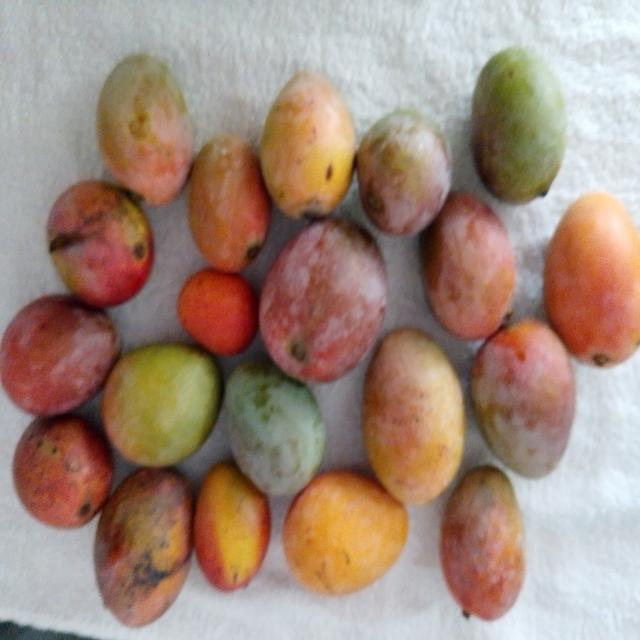mango: (260, 220, 390, 381), (364, 329, 466, 502), (542, 186, 640, 366), (286, 470, 412, 598), (260, 65, 357, 227), (468, 46, 567, 203), (422, 189, 519, 344), (95, 51, 192, 206), (224, 358, 329, 500), (42, 176, 155, 305), (102, 346, 221, 466), (441, 463, 527, 618), (356, 106, 451, 237), (188, 130, 273, 274)
